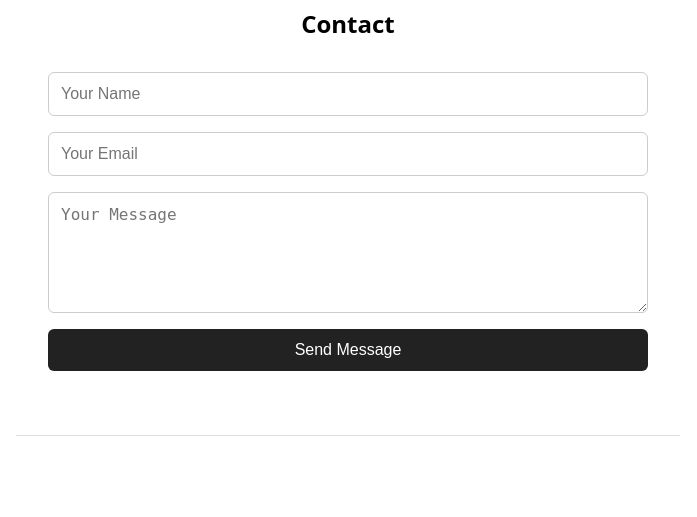
Scenario: shows error when submitting empty form
The width and height of the screenshot is (697, 517).
Click the button "Send Message". click: [348, 350]
box: [48, 329, 648, 371]
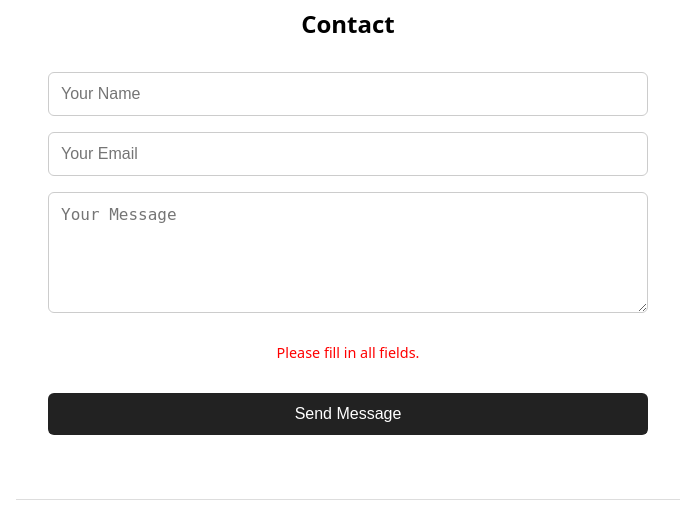
Now the text "Please fill in all fields." is shown, box [277, 343, 420, 362]
